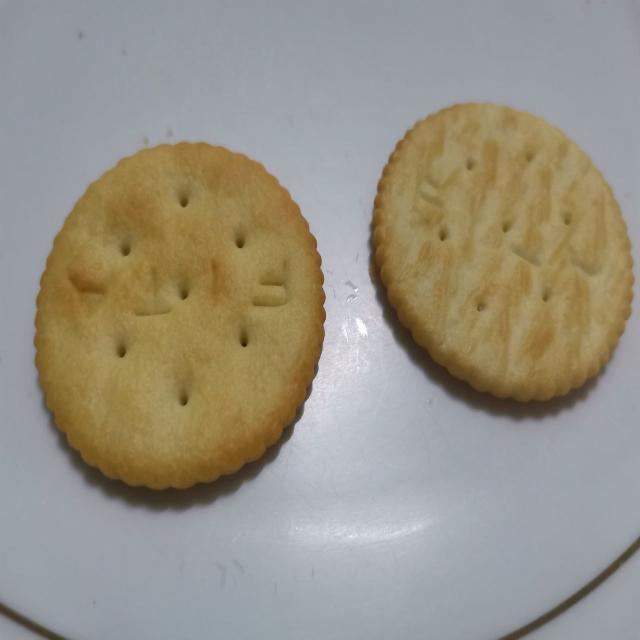intact biscuit: (33, 138, 327, 492), (369, 99, 635, 404)
